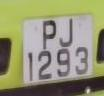1: (26, 49, 38, 84)
2: (35, 47, 57, 82)
3: (74, 45, 91, 76)
9: (54, 47, 73, 80)
J: (56, 16, 76, 50)
P: (40, 17, 59, 51)
